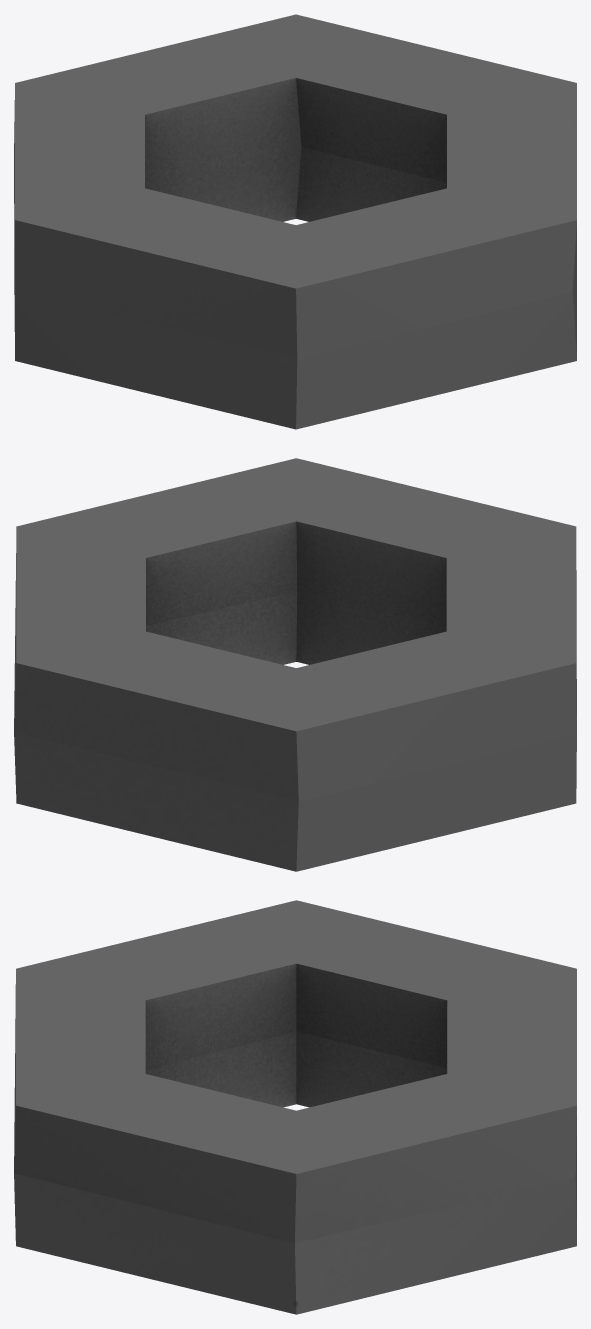
The model's file is bolt.obj.
The picture shows the model from 3 angles, top to bottom: view 1: azimuth 30°, elevation 25°; view 2: azimuth 150°, elevation 25°; view 3: azimuth 270°, elevation 25°; orthographic projection.
Visible parts, largest first — view 1: pTorus1; view 2: pTorus1; view 3: pTorus1.
Boxes of the visible parts, bbox=[...] form: pTorus1: bbox=[14, 14, 576, 429]; pTorus1: bbox=[14, 458, 576, 871]; pTorus1: bbox=[14, 900, 576, 1314].
Bounding box in the file's own units: 6.06 × 1.45 × 5.26.
